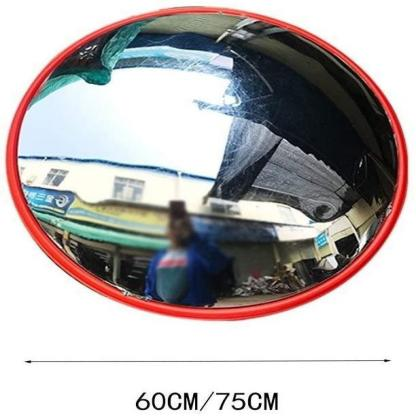other: (134, 85, 221, 171)
